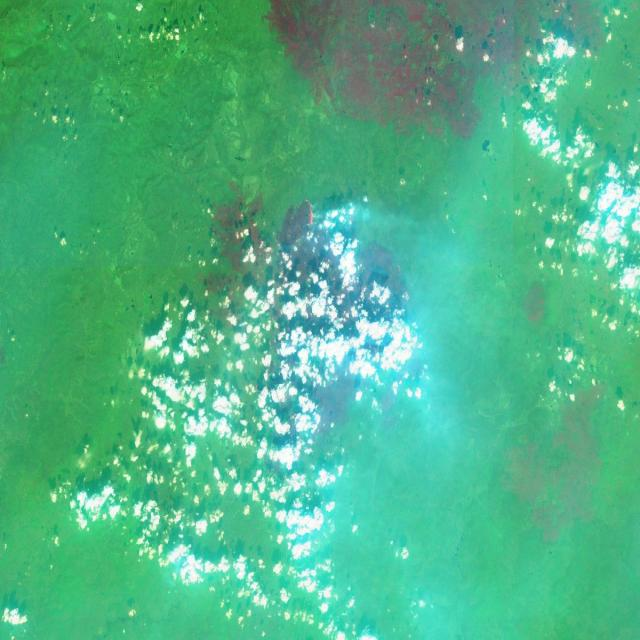fire: (292, 195, 341, 248)
